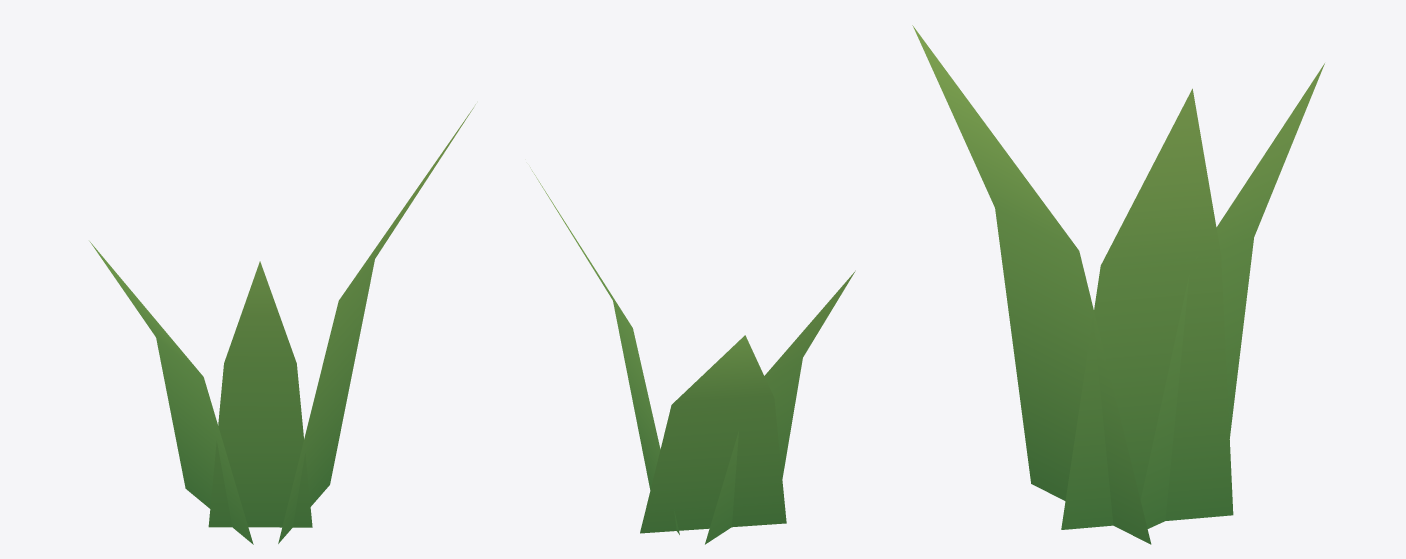
Rendered from grass_0.glb.
3 views of the same model, side by side, from view 1: azimuth 30°, elevation 25°; view 2: azimuth 150°, elevation 25°; view 3: azimuth 270°, elevation 25° (orthographic). The views are drawn at different scales.
Visible parts, largest first — view 1: grass_0; view 2: grass_0; view 3: grass_0.
Part boxes in pixels (x1=…): grass_0: x1=89, y1=104, x2=475, y2=544; grass_0: x1=530, y1=167, x2=855, y2=544; grass_0: x1=912, y1=25, x2=1324, y2=544.
Size of the model in its own units: 0.3612 by 0.4227 by 0.3367.
